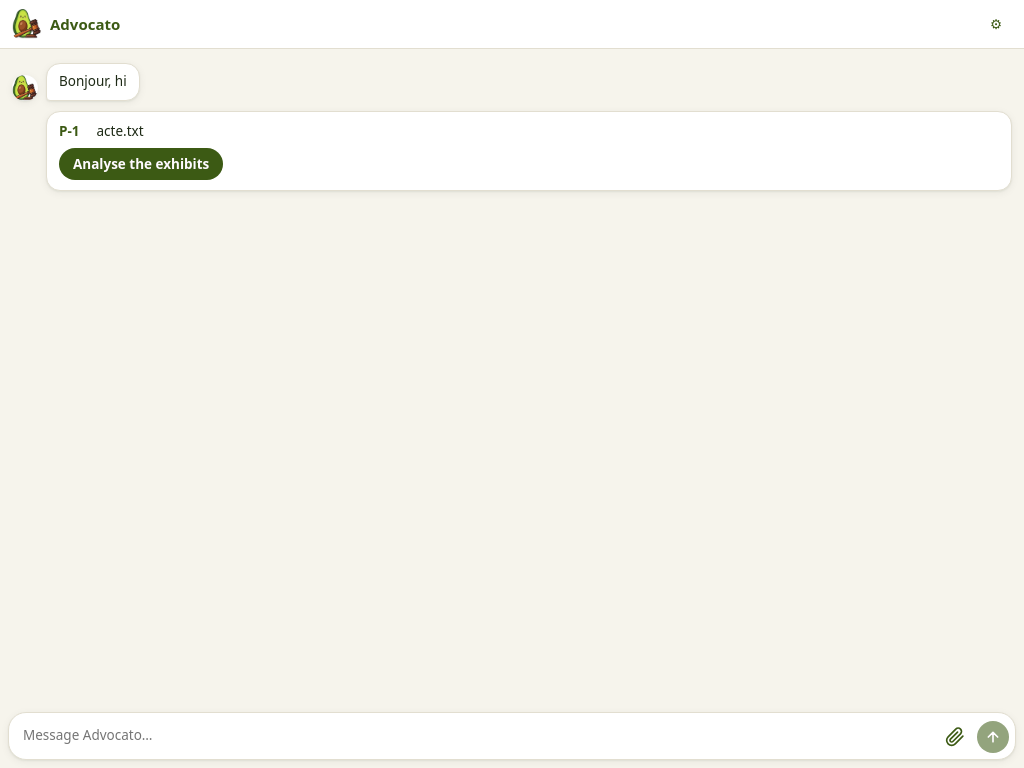
US-04 fact extraction (UI) › analyses each exhibit, then shows the timeline checklist
Click the button "Analyse the exhibits" at (141, 164), box [59,148,223,180]
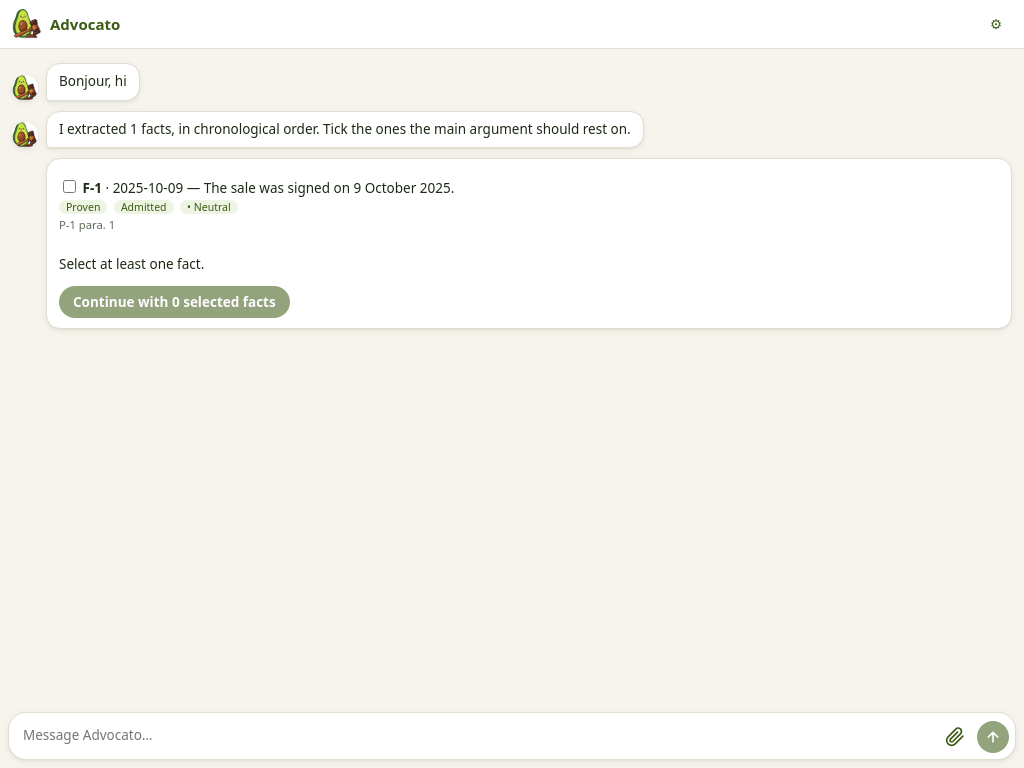
Now the checkbox labelled "F-1 · 2025-10-09 — The sale was signed on 9 October 2025." is shown, box [63,180,76,193]
